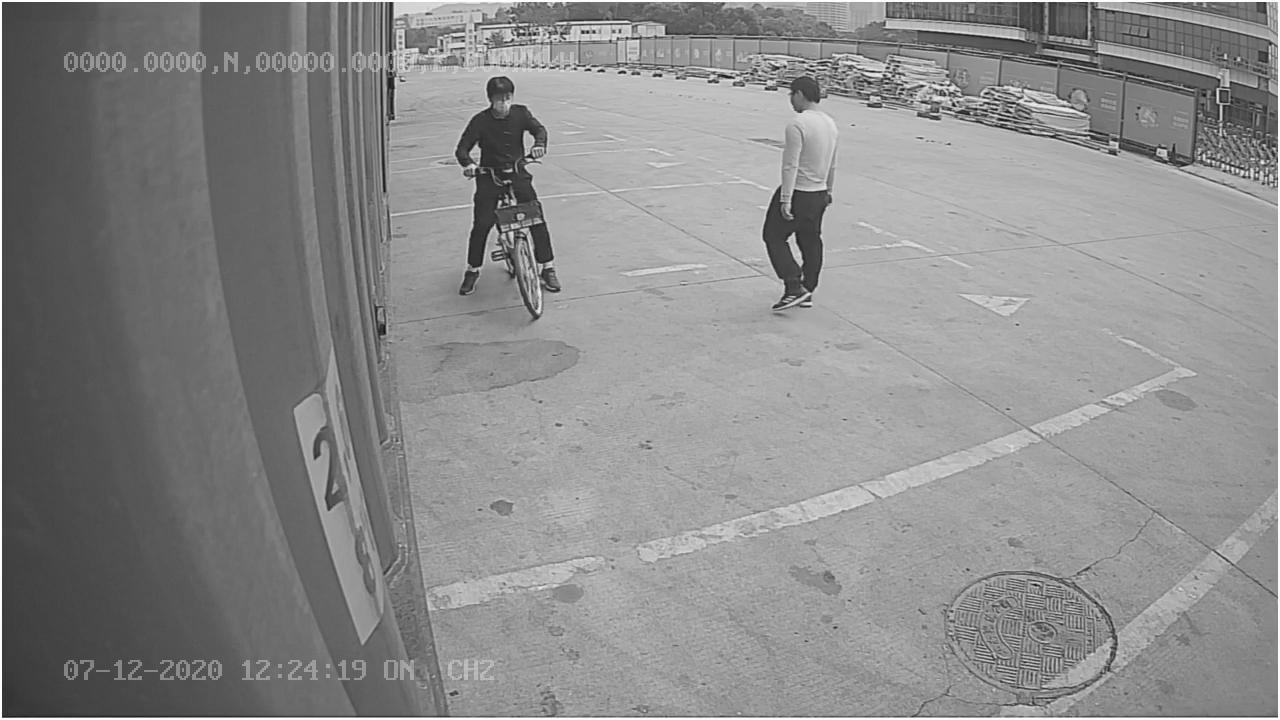person: (757, 73, 844, 314)
